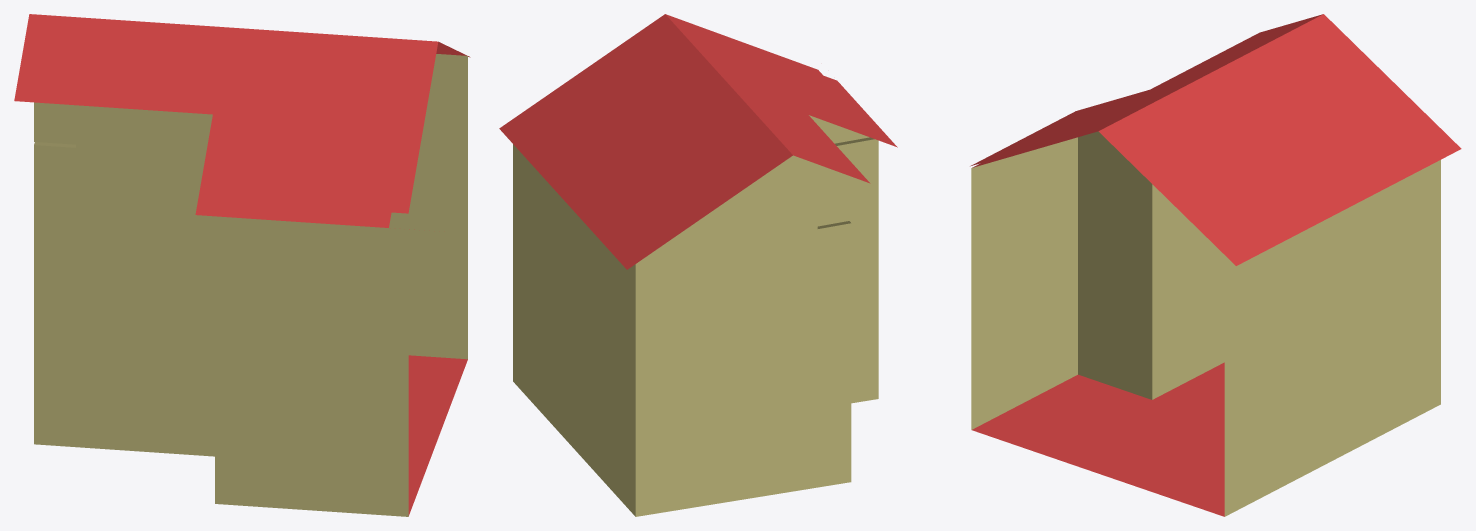
The picture shows the model from 3 angles, left to right: view 1: azimuth 30°, elevation 25°; view 2: azimuth 150°, elevation 25°; view 3: azimuth 270°, elevation 25°; orthographic projection. The views are drawn at different scales.
Bounding box in the file's own units: 14.91 × 18.07 × 12.75.
